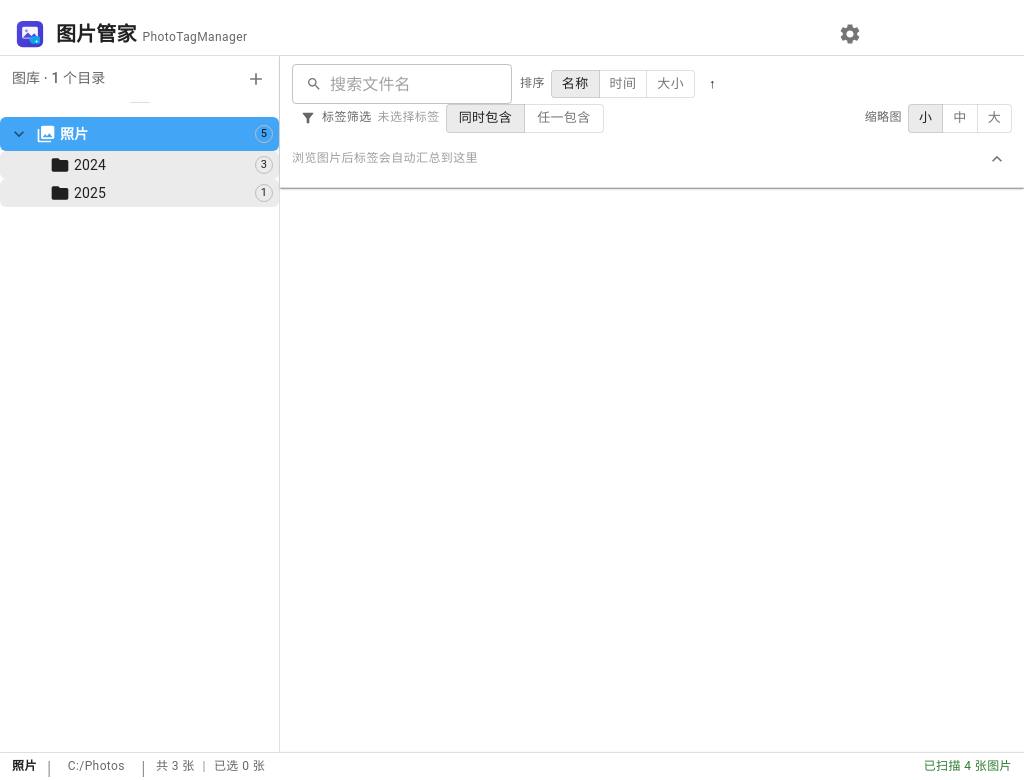
左栏右键菜单的「取消隐藏」区 › 子树里只有一个隐藏项时给单行「取消隐藏」，不铺分组
This screenshot has width=1024, height=780.
Right-click the list item with aria-label "目录 照片" at (140, 134), box [0,117,279,151]
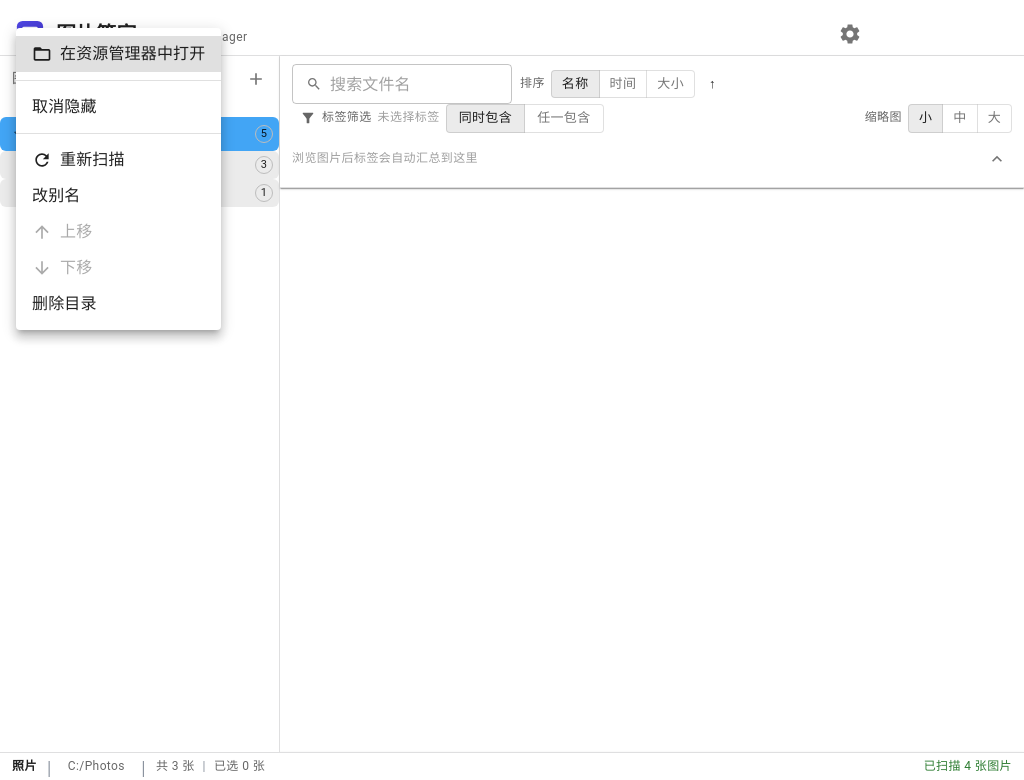
Result: the menu item "取消隐藏" is shown at [32,97,97,116]
